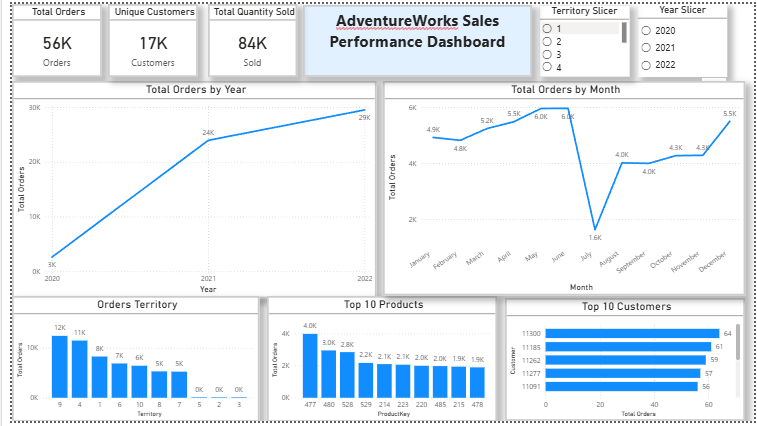

What the dashboard file says about the page in this screenshot:
{"tool":"powerbi","page":{"name":"Page 2","canvas":[1280,720],"ordinal":0},"visuals":[{"type":"listSlicer","title":"Year Slicer","fields":{"Values":["Sales Data.Year"]},"box":[1080,0,153.7,125.9],"z":0},{"type":"card","title":"Total Orders","fields":{"Values":["Sales Data.Total Orders"]},"box":[0,0,154.5,126],"z":1000},{"type":"lineChart","fields":{"Y":["Sales Data.Total Orders"],"Category":["Sales Data.Year"]},"box":[0,133.2,629.3,374.6],"z":3000},{"type":"clusteredColumnChart","title":"Orders Territory","fields":{"Category":["Sales Data.TerritoryKey"],"Y":["Sales Data.Total Orders"]},"box":[0,503.4,427.3,216.6],"z":4000},{"type":"card","title":"Unique Customers","fields":{"Values":["Sales Data.Unique Customers"]},"box":[165.4,0,155.1,125.9],"z":5000},{"type":"card","title":"Total Quantity Sold","fields":{"Values":["Sales Data.Total Quantity Sold"]},"box":[338,0,153.7,125.9],"z":6000},{"type":"clusteredColumnChart","title":"Top 10 Products","fields":{"Category":["Sales Data.ProductKey"],"Y":["Sales Data.Total Orders"]},"box":[440.5,503.4,396.6,216.6],"z":7000},{"type":"clusteredBarChart","title":"Top 10 Customers","fields":{"Category":["Sales Data.CustomerKey"],"Y":["Sales Data.Total Orders"]},"box":[850.2,507.8,414.1,212.2],"z":8000},{"type":"lineChart","fields":{"Y":["Sales Data.Total Orders"],"Category":["Sales Data.Month"]},"box":[639.5,133.2,624.9,370.2],"z":9000},{"type":"listSlicer","title":"Territory Slicer","fields":{"Values":["Sales Data.TerritoryKey"]},"box":[908.8,1.5,156.6,124.4],"z":10000},{"type":"textbox","box":[502,1.5,395.1,124.4],"z":10001}]}

Visuals, with their boxes in screenshot pixels (x1, y1, x2, y2), scaled from the page's 1280x720 canvas onto the 757x426 screenshot:
"Year Slicer" listSlicer: {"x1": 639, "y1": 0, "x2": 730, "y2": 74}
"Total Orders" card: {"x1": 0, "y1": 0, "x2": 91, "y2": 75}
lineChart - Sales Data.Total Orders x Sales Data.Year: {"x1": 0, "y1": 79, "x2": 372, "y2": 300}
"Orders Territory" clusteredColumnChart: {"x1": 0, "y1": 298, "x2": 253, "y2": 425}
"Unique Customers" card: {"x1": 98, "y1": 0, "x2": 190, "y2": 74}
"Total Quantity Sold" card: {"x1": 200, "y1": 0, "x2": 291, "y2": 74}
"Top 10 Products" clusteredColumnChart: {"x1": 261, "y1": 298, "x2": 495, "y2": 425}
"Top 10 Customers" clusteredBarChart: {"x1": 503, "y1": 300, "x2": 748, "y2": 425}
lineChart - Sales Data.Total Orders x Sales Data.Month: {"x1": 378, "y1": 79, "x2": 748, "y2": 298}
"Territory Slicer" listSlicer: {"x1": 537, "y1": 1, "x2": 630, "y2": 74}
textbox: {"x1": 297, "y1": 1, "x2": 531, "y2": 74}
